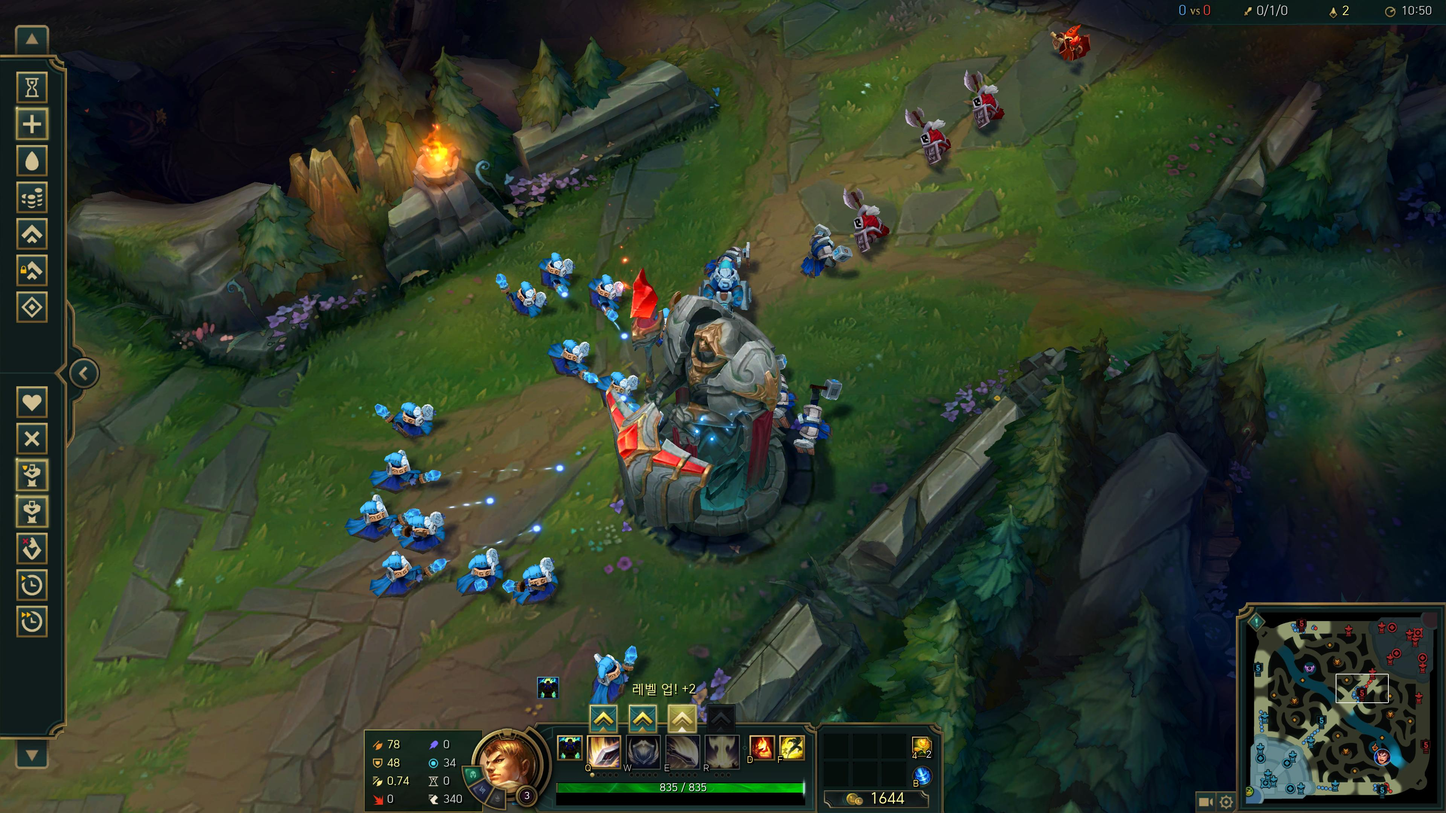ally-caster-minion: (369, 551, 447, 596), (369, 449, 441, 491), (589, 646, 638, 704), (503, 557, 557, 604), (345, 493, 397, 541), (494, 272, 546, 317), (391, 507, 444, 551), (456, 548, 503, 593), (373, 401, 433, 436), (589, 273, 628, 316), (538, 251, 574, 297), (547, 339, 590, 375)
ally-melee-minion: (792, 378, 843, 454), (801, 222, 853, 275)
ally-siege-minion: (700, 242, 752, 310)
enemy-caster-minion: (1052, 21, 1092, 60)
enemy-melee-minion: (844, 186, 891, 252), (905, 105, 952, 164), (965, 69, 1005, 127)
enemy-tower: (606, 294, 811, 557)
